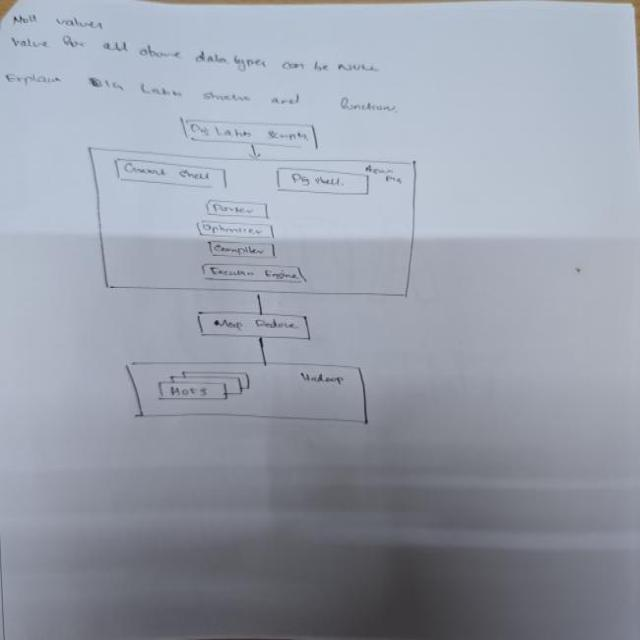Figure Detection - v3 Dataset Version2: (61, 108, 444, 450)
